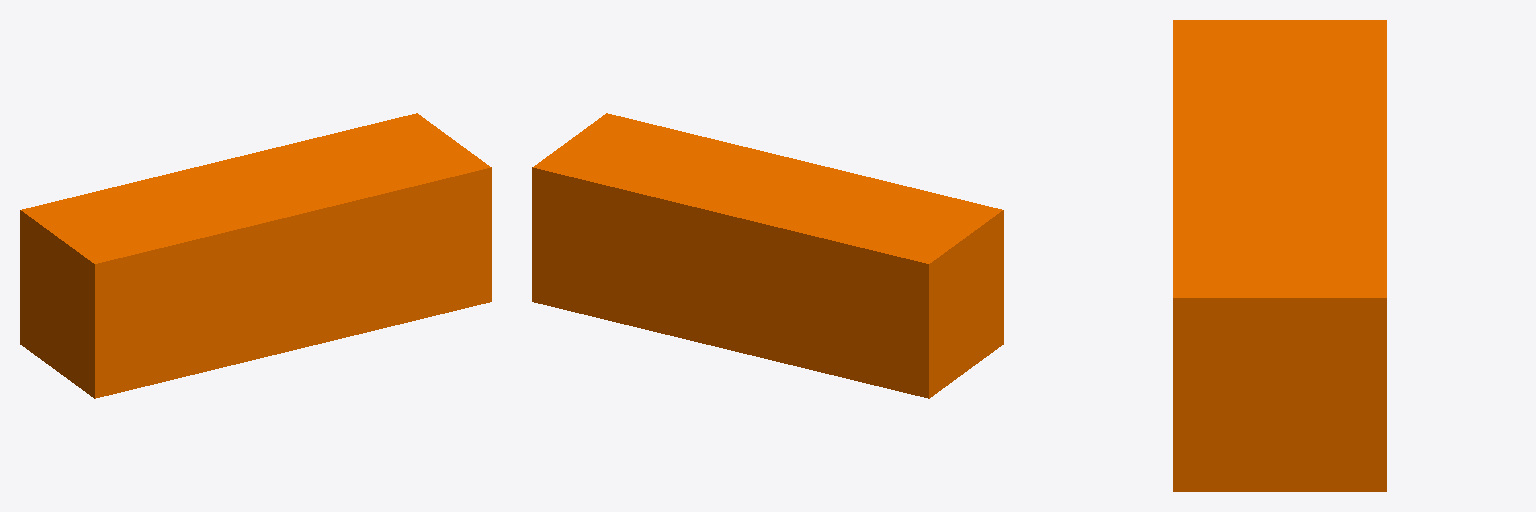
The robot description file, URDF, robot "long_edge.urdf":
<?xml version="1.0" ?>
<robot name="long_edge.urdf">

  <link name="long_edge">
    <contact>
    	<friction_anchor/>
    	   <lateral_friction value="1.0"/>
    </contact>
    <inertial>
      <origin rpy="0 0 0" xyz="0 0 0"/>
       <mass value=".1"/>
       <inertia ixx="1" ixy="0" ixz="0" iyy="1" iyz="0" izz="1"/>
    </inertial>
    <visual>
      <origin rpy="0 0 0" xyz="0 0 0"/>
      <geometry>
				<mesh filename="long_edge.obj" scale="0.6 1.0 1.0"/>
      </geometry>
       <material name="blue">
        <color rgba="1 0.5 0 1.0"/>
      </material>
    </visual>
    <collision>
      <origin rpy="0 0 0" xyz="0 0 0"/>
      <geometry>
				<mesh filename="long_edge.obj" scale="0.6 1.0 1.0"/>
      </geometry>
    </collision>
  </link>


</robot>

--- What the picture shows (computed from the rendered views, not written in the file) ---
3 views of the same robot in one strip: view 1: azimuth 30°, elevation 25°; view 2: azimuth 150°, elevation 25°; view 3: azimuth 270°, elevation 25° (orthographic).
Robot: long_edge.urdf — 1 links, 0 joints (none); root link long_edge; default pose: every joint at zero.
Links seen in each view (by area): view 1: long_edge; view 2: long_edge; view 3: long_edge.
Boxes of the visible links, x1,y1,x2,y2 form: long_edge: [20, 113, 491, 398]; long_edge: [532, 113, 1003, 398]; long_edge: [1173, 20, 1386, 491].
Size in the robot's own frame: 0.108 by 0.035 by 0.035 metres.
1 mesh visuals loaded from 1 distinct referenced files (1 OBJ).